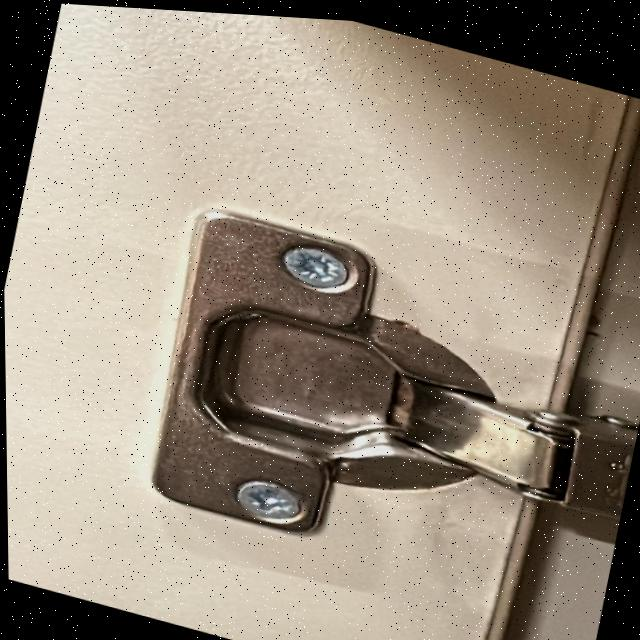Pozidriv: (207, 457, 350, 546), (258, 226, 361, 312)
